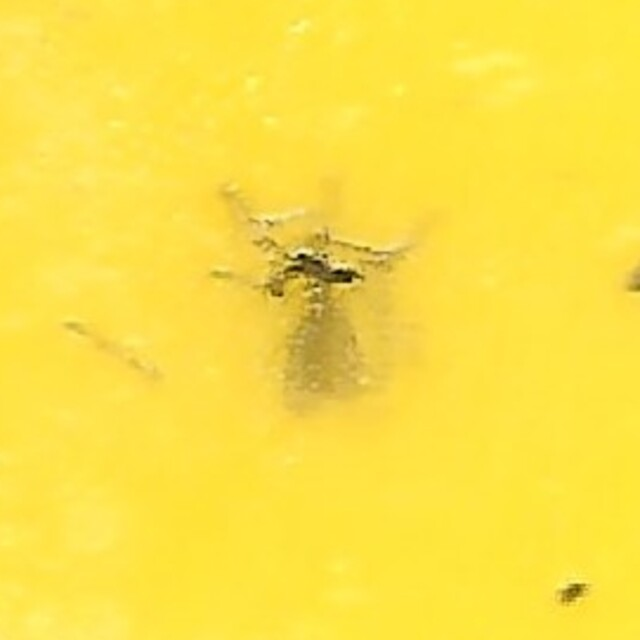Nematocera: (236, 225, 404, 415)
